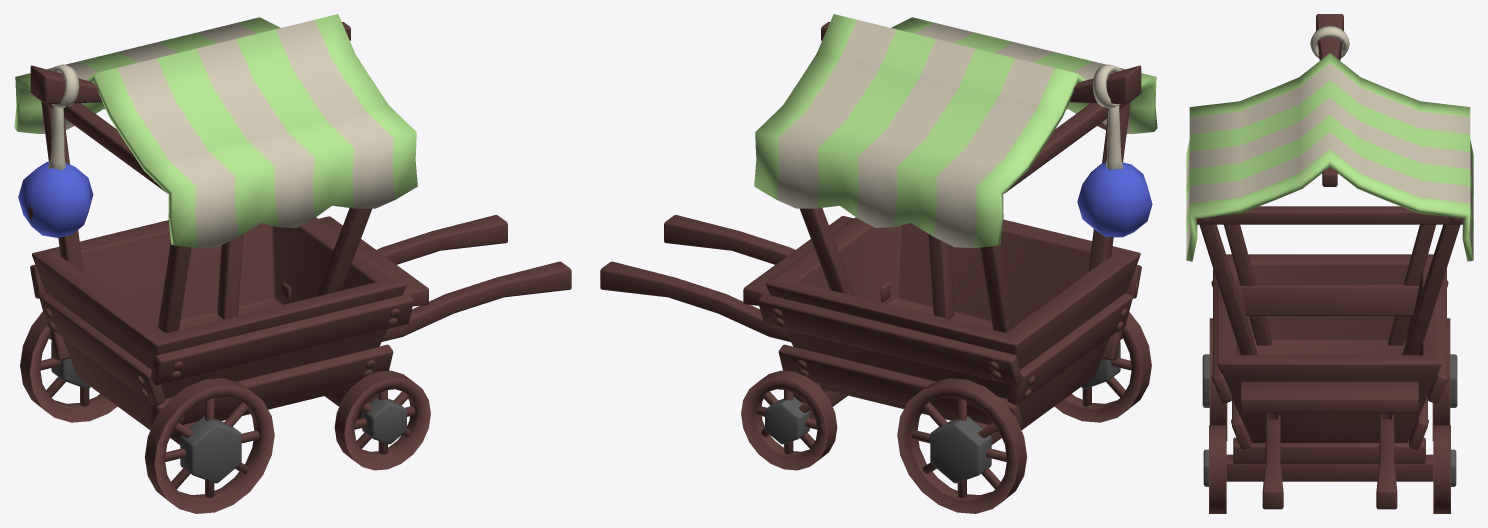
The model's file is WagonReady3.fbx.
The picture shows the model from 3 angles, left to right: view 1: azimuth 30°, elevation 25°; view 2: azimuth 150°, elevation 25°; view 3: azimuth 270°, elevation 25°; orthographic projection. The views are drawn at different scales.
Visible parts, largest first — view 1: Cube.028, Spikets, Cube.001, Wheel.001; view 2: Cube.028, Spikets, Cube.001, Wheel.001; view 3: Cube.028, Wheel.001, Cube.001, Spikets.
Boxes of the visible parts, x1,y1,x2,y2 form: Cube.028: [14, 14, 428, 444]; Spikets: [20, 311, 274, 513]; Cube.001: [281, 215, 571, 341]; Wheel.001: [334, 370, 430, 470]; Cube.028: [743, 14, 1157, 444]; Spikets: [897, 312, 1151, 513]; Cube.001: [600, 215, 890, 341]; Wheel.001: [741, 370, 837, 470]; Cube.028: [1186, 14, 1473, 481]; Wheel.001: [1203, 425, 1456, 513]; Cube.001: [1262, 415, 1397, 509]; Spikets: [1202, 318, 1457, 440].
Bounding box in the file's own units: 8338 × 6532 × 4543.
